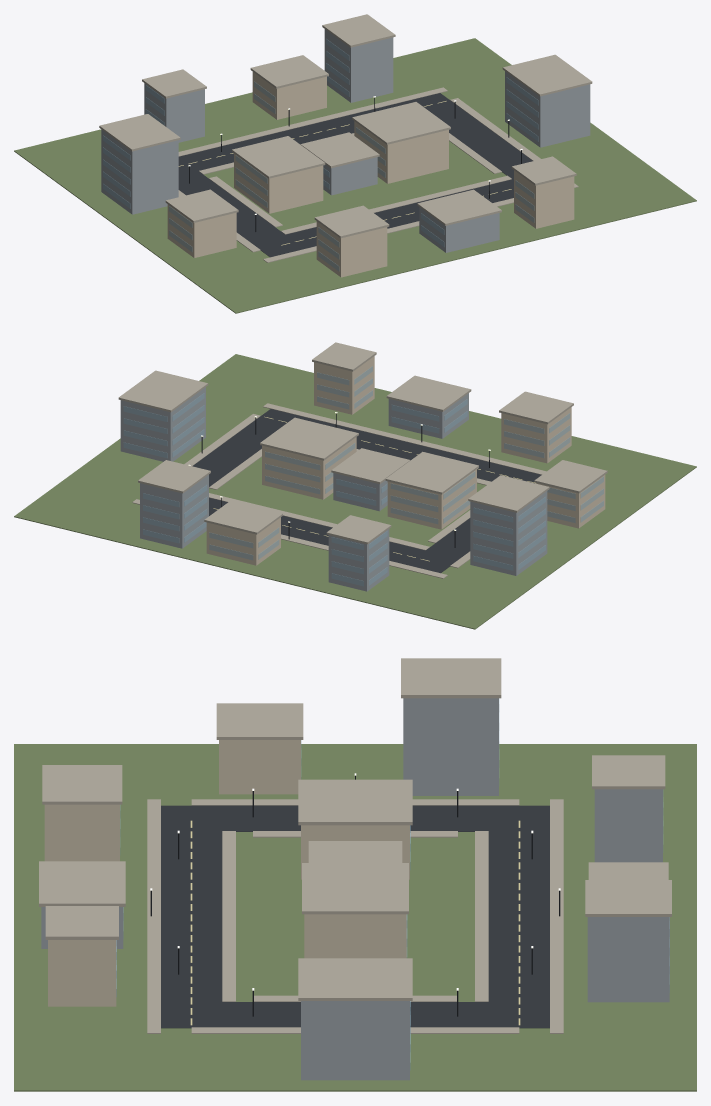
The model's file is taxi_district.glb.
3 renders of one model, top to bottom at view 1: azimuth 30°, elevation 25°; view 2: azimuth 150°, elevation 25°; view 3: azimuth 270°, elevation 25°, orthographic. The views are drawn at different scales.
Parts seen in each view (by area): view 1: NOCOL_MAT_Ground, NOCOL_MAT_Road, NOCOL_MAT_Glass, NOCOL_MAT_Pavement, BLD_10_MAT_BuildingB, BLD_12_MAT_BuildingB, BLD_6_MAT_BuildingB, BLD_3_MAT_BuildingA, BLD_1_MAT_BuildingA, BLD_7_MAT_BuildingA, BLD_9_MAT_BuildingA, BLD_11_MAT_BuildingA (+16 smaller); view 2: NOCOL_MAT_Ground, NOCOL_MAT_Glass, NOCOL_MAT_Road, BLD_10_MAT_BuildingB, NOCOL_MAT_Pavement, BLD_12_MAT_BuildingB, BLD_6_MAT_BuildingB, BLD_3_MAT_BuildingA, BLD_1_MAT_BuildingA, BLD_4_MAT_BuildingB, BLD_7_MAT_BuildingA, BLD_9_MAT_BuildingA (+16 smaller); view 3: NOCOL_MAT_Ground, NOCOL_MAT_Road, NOCOL_MAT_Pavement, BLD_10_MAT_BuildingB, BLD_12_MAT_BuildingB, BLD_6_MAT_BuildingB, BLD_3_MAT_Pavement, BLD_1_MAT_Pavement, BLD_4_MAT_BuildingB, BLD_12_MAT_Pavement, BLD_3_MAT_BuildingA, BLD_9_MAT_BuildingA (+13 smaller).
Boxes of the visible parts, x1=… form: NOCOL_MAT_Ground: x1=14, y1=38, x2=696, y2=313; NOCOL_MAT_Road: x1=178, y1=93, x2=532, y2=257; NOCOL_MAT_Glass: x1=103, y1=39, x2=538, y2=271; NOCOL_MAT_Pavement: x1=178, y1=87, x2=578, y2=262; BLD_10_MAT_BuildingB: x1=101, y1=129, x2=178, y2=214; BLD_12_MAT_BuildingB: x1=505, y1=71, x2=590, y2=147; BLD_6_MAT_BuildingB: x1=324, y1=29, x2=393, y2=102; BLD_3_MAT_BuildingA: x1=354, y1=121, x2=448, y2=183; BLD_1_MAT_BuildingA: x1=234, y1=153, x2=323, y2=213; BLD_7_MAT_BuildingA: x1=316, y1=221, x2=387, y2=277; BLD_9_MAT_BuildingA: x1=514, y1=170, x2=574, y2=228; BLD_11_MAT_BuildingA: x1=167, y1=204, x2=236, y2=257; NOCOL_MAT_Ground: x1=14, y1=354, x2=696, y2=629; NOCOL_MAT_Glass: x1=123, y1=366, x2=603, y2=586; NOCOL_MAT_Road: x1=192, y1=409, x2=541, y2=573; BLD_10_MAT_BuildingB: x1=470, y1=491, x2=547, y2=575; NOCOL_MAT_Pavement: x1=132, y1=403, x2=546, y2=578; BLD_12_MAT_BuildingB: x1=120, y1=387, x2=205, y2=461; BLD_6_MAT_BuildingB: x1=140, y1=475, x2=208, y2=548; BLD_3_MAT_BuildingA: x1=262, y1=437, x2=356, y2=499; BLD_1_MAT_BuildingA: x1=387, y1=469, x2=476, y2=529; BLD_4_MAT_BuildingB: x1=328, y1=529, x2=389, y2=591; BLD_7_MAT_BuildingA: x1=501, y1=407, x2=571, y2=463; BLD_9_MAT_BuildingA: x1=314, y1=356, x2=374, y2=414; NOCOL_MAT_Ground: x1=14, y1=744, x2=696, y2=1091; NOCOL_MAT_Road: x1=161, y1=805, x2=549, y2=1028; NOCOL_MAT_Pavement: x1=147, y1=799, x2=563, y2=1033; BLD_10_MAT_BuildingB: x1=403, y1=698, x2=498, y2=795; BLD_12_MAT_BuildingB: x1=301, y1=1001, x2=409, y2=1080; BLD_6_MAT_BuildingB: x1=587, y1=917, x2=669, y2=1002; BLD_3_MAT_Pavement: x1=302, y1=863, x2=408, y2=914; BLD_1_MAT_Pavement: x1=298, y1=779, x2=412, y2=825; BLD_4_MAT_BuildingB: x1=594, y1=789, x2=662, y2=862; BLD_12_MAT_Pavement: x1=298, y1=958, x2=412, y2=1000; BLD_3_MAT_BuildingA: x1=304, y1=914, x2=406, y2=958; BLD_9_MAT_BuildingA: x1=48, y1=940, x2=116, y2=1006.
Bounding box in the file's own units: 120 × 16.65 × 100.
